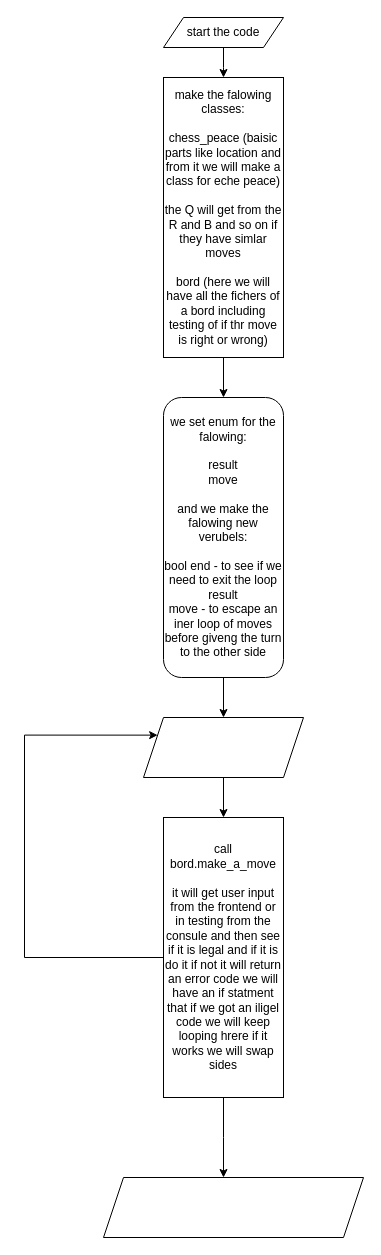
The diagram is 381 pixels wide and 1255 high, and some of its shapes have lost their labels. Each missing label, with the box of its shape:
if we get that the game is over end the code: (102, 1176, 364, 1238)
is !end true then run the falowing: (142, 716, 304, 778)
